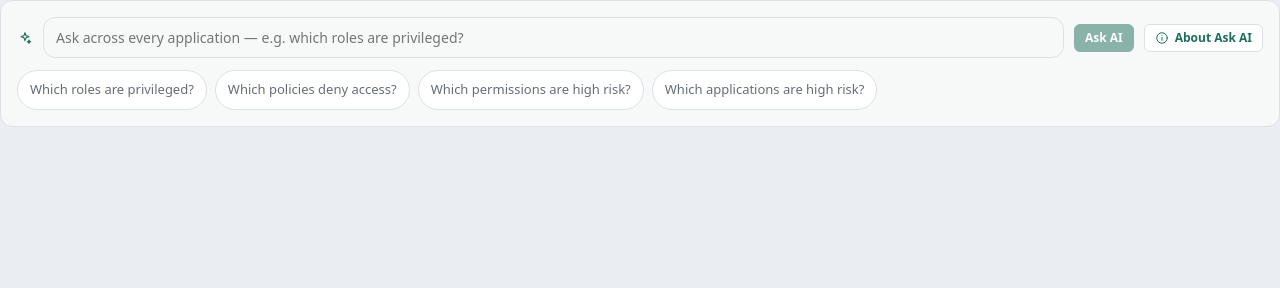
Test case: AccessSearch tree rendering › shows an interpretation header with entity, filter chips, and a result count
What coordinates should you click on to do the following:
click the button with class "access-search-chip" showing "Which roles are privileged?"
I would click on:
 (112, 90)
Its box is top-left (17, 70), bottom-right (207, 110).
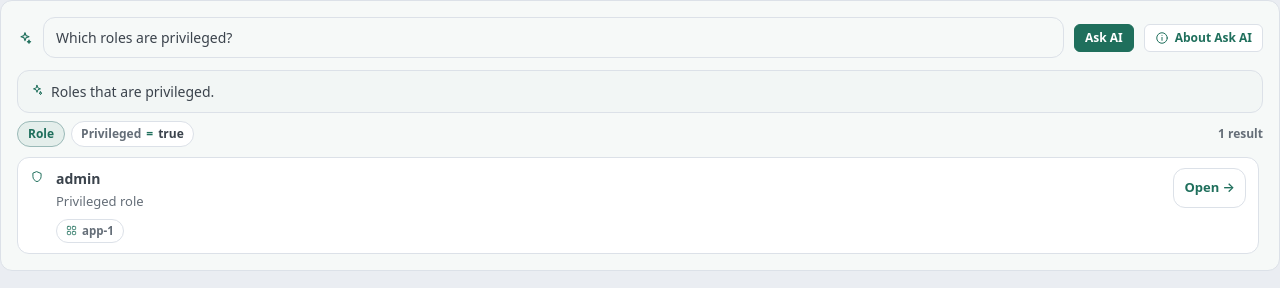
expect the element with class "access-search-summary" is shown: met, box top-left (17, 70), bottom-right (1263, 147)
expect the element with class "access-search-summary" shows "Roles that are privileged.": met, box top-left (51, 82), bottom-right (214, 101)
expect the element with class "access-search-summary" shows "Role": met, box top-left (28, 125), bottom-right (54, 142)
